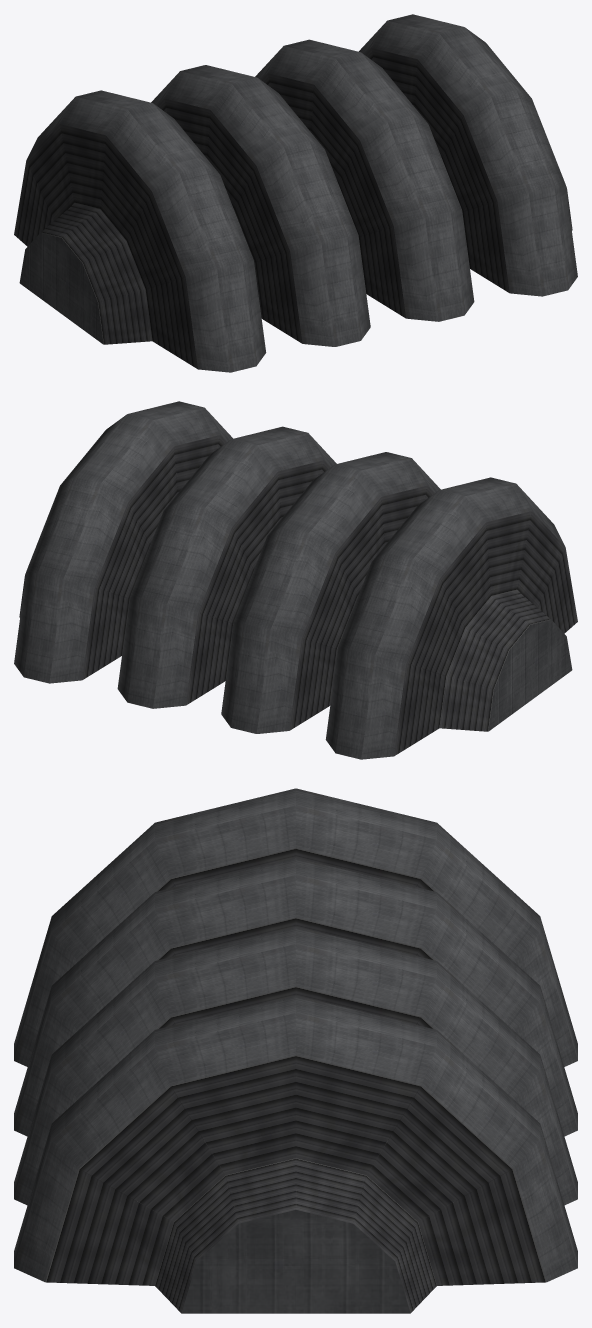
Rendered from Reactor.fbx.
3 views of the same model, one above another, from view 1: azimuth 30°, elevation 25°; view 2: azimuth 150°, elevation 25°; view 3: azimuth 270°, elevation 25° (orthographic). The views are drawn at different scales.
Visible parts, largest first — view 1: Reactor; view 2: Reactor; view 3: Reactor.
Boxes of the visible parts, x1,y1,x2,y2 form: Reactor: (14, 14, 577, 372); Reactor: (14, 401, 577, 759); Reactor: (14, 788, 577, 1313).
Bounding box in the file's own units: 377 × 145 × 288.
